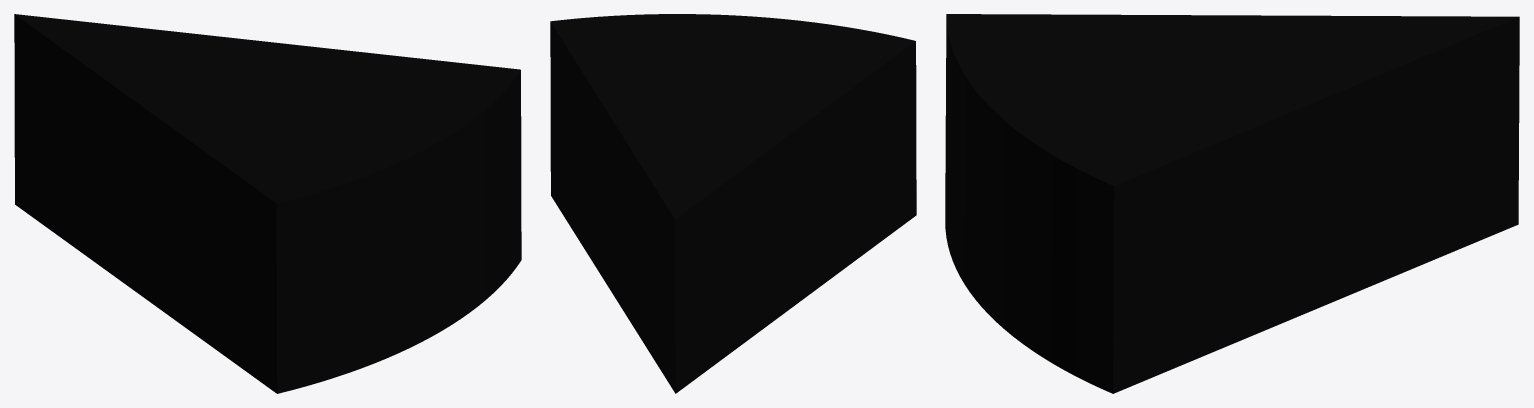
File: Slice.fbx
3 views of the same model, side by side, from view 1: azimuth 30°, elevation 25°; view 2: azimuth 150°, elevation 25°; view 3: azimuth 270°, elevation 25° (orthographic). The views are drawn at different scales.
Visible parts, largest first — view 1: node_id3; view 2: node_id3; view 3: node_id3.
Part boxes in pixels (x1,y1,x2,y2): node_id3: [14, 14, 521, 393]; node_id3: [550, 14, 916, 393]; node_id3: [945, 14, 1519, 393].
Bounding box in the file's own units: 0.362 × 0.2075 × 0.5131.
1 material, 1 textured.
